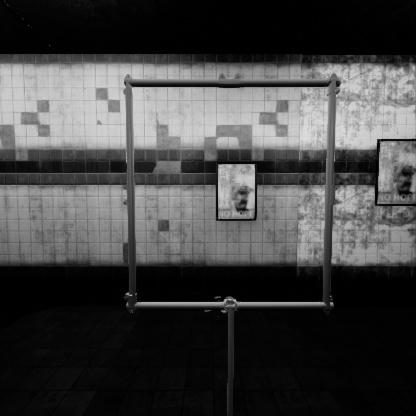gate: (125, 103, 359, 339)
